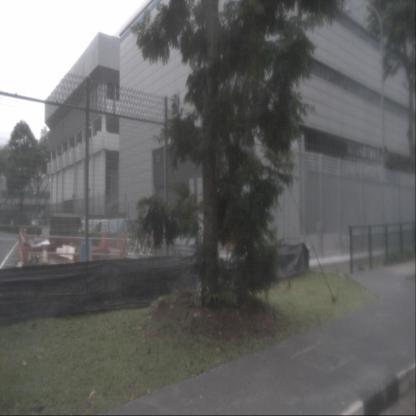vehicle-car: (91, 217, 133, 246)
